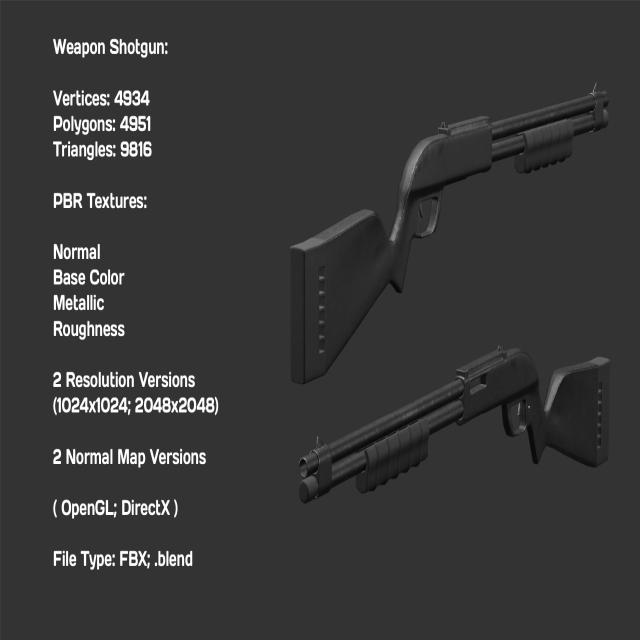ShotGun: (288, 92, 609, 387), (297, 345, 610, 504)
